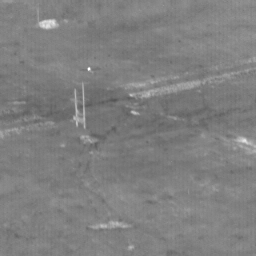aircraft: (88, 68, 90, 70)
